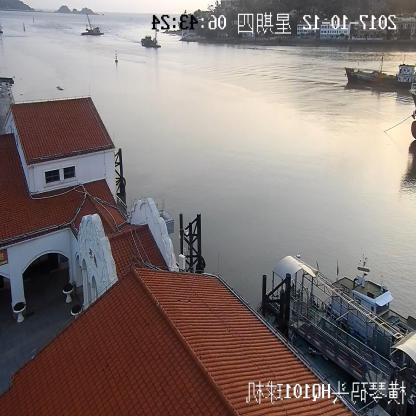Fishing Boat: (344, 60, 416, 84)
